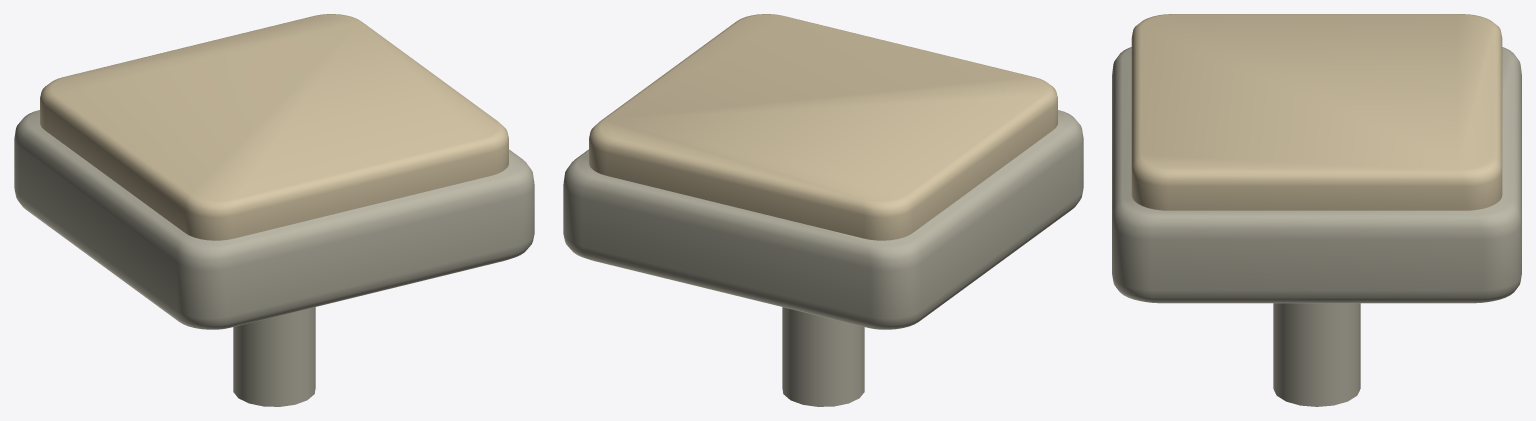
File: Continental.glb
3 renders of one model, left to right at view 1: azimuth 30°, elevation 25°; view 2: azimuth 150°, elevation 25°; view 3: azimuth 270°, elevation 25°, orthographic. The views are drawn at different scales.
Parts seen in each view (by area): view 1: Inset keytop, Key bezel, Keystem; view 2: Inset keytop, Key bezel, Keystem; view 3: Inset keytop, Key bezel, Keystem.
Part boxes in pixels (left/top/right/bottom): Inset keytop: left=40, top=14, right=508, bottom=240; Key bezel: left=14, top=110, right=534, bottom=329; Keystem: left=233, top=307, right=315, bottom=406; Inset keytop: left=589, top=14, right=1057, bottom=240; Key bezel: left=563, top=110, right=1083, bottom=329; Keystem: left=782, top=307, right=864, bottom=406; Inset keytop: left=1131, top=14, right=1502, bottom=210; Key bezel: left=1112, top=47, right=1521, bottom=303; Keystem: left=1273, top=303, right=1360, bottom=406.
Bounding box in the file's own units: 0.46 × 0.351 × 0.44.
